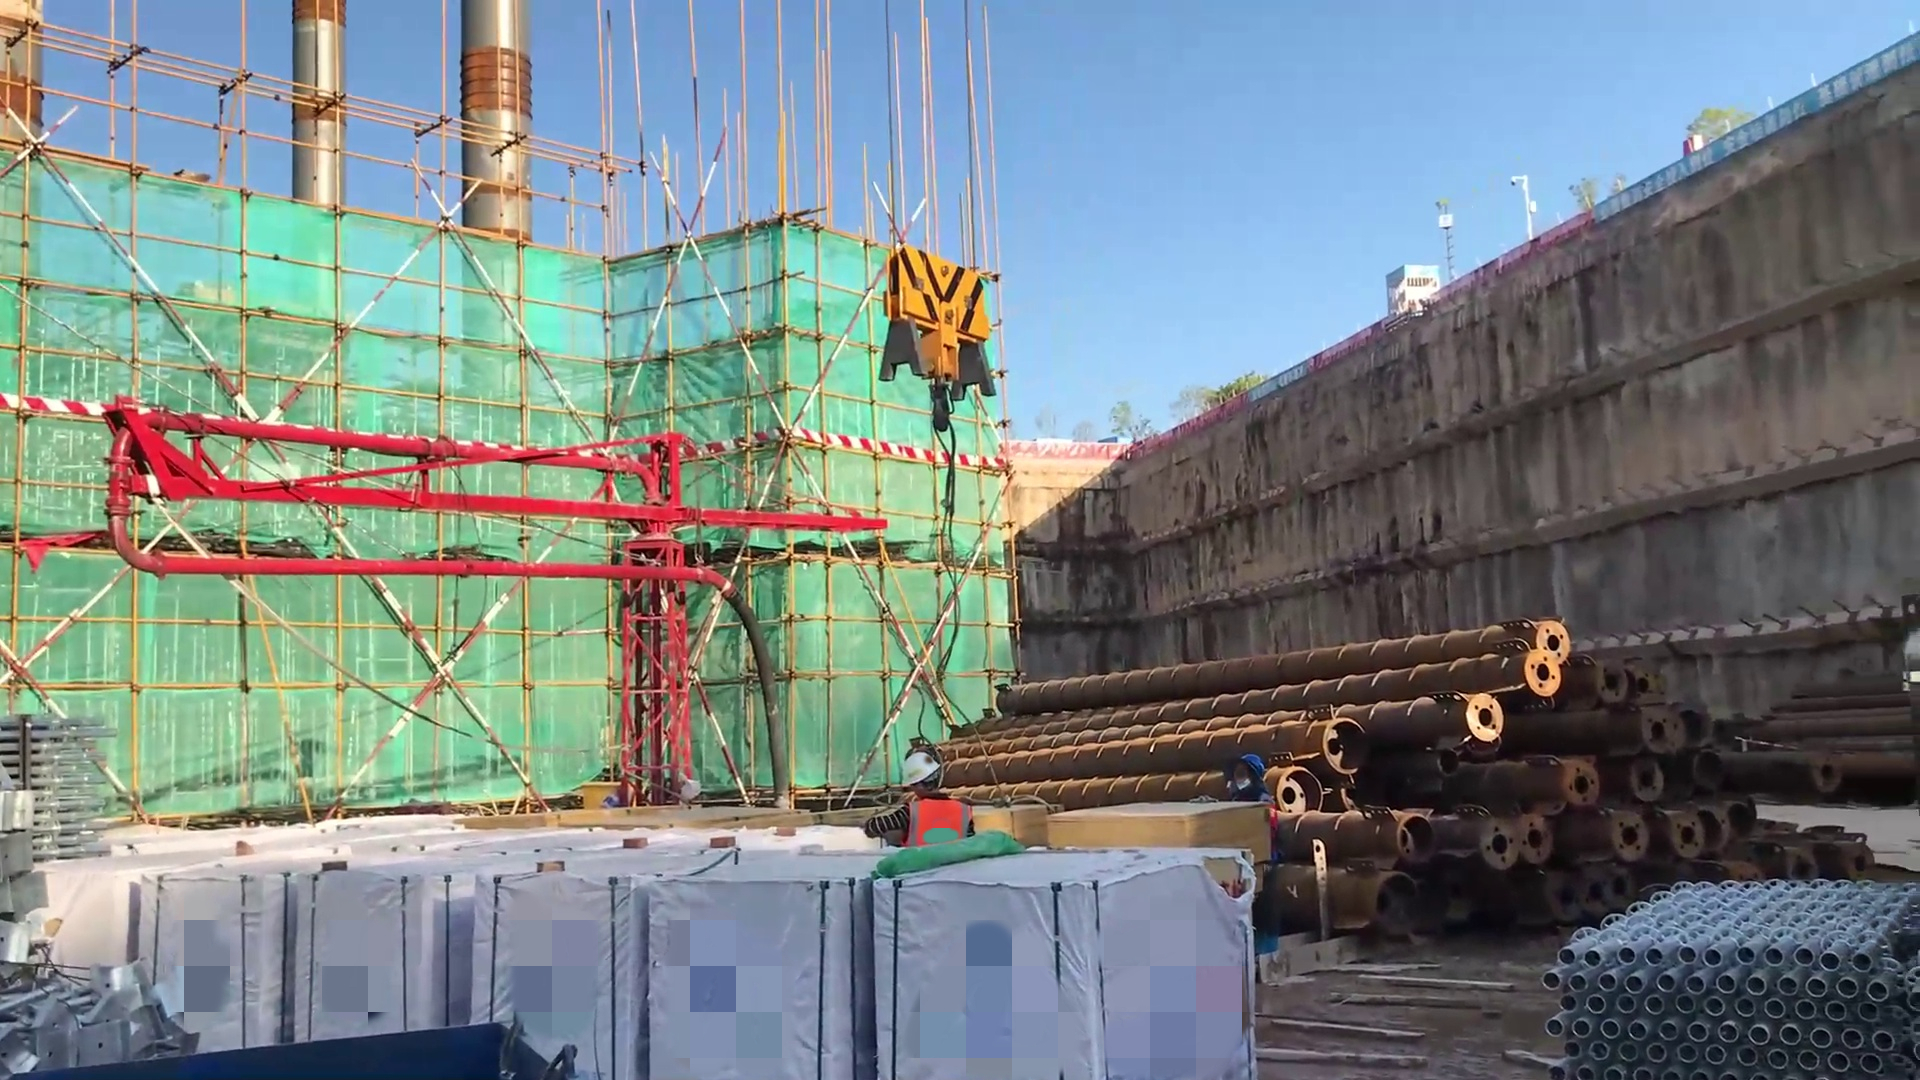board: (1036, 798, 1268, 863), (970, 803, 1065, 845)
ebox: (575, 778, 654, 814)
helmet: (1220, 747, 1273, 801), (893, 751, 948, 798)
hook: (873, 232, 1020, 432)
hopper: (12, 996, 584, 1078)
person: (1211, 743, 1291, 986), (867, 754, 986, 861)
scaffold: (1551, 855, 1917, 1080), (1, 692, 140, 878)
slogan: (1575, 20, 1920, 251), (1231, 348, 1330, 409)
vest: (891, 793, 977, 860)
